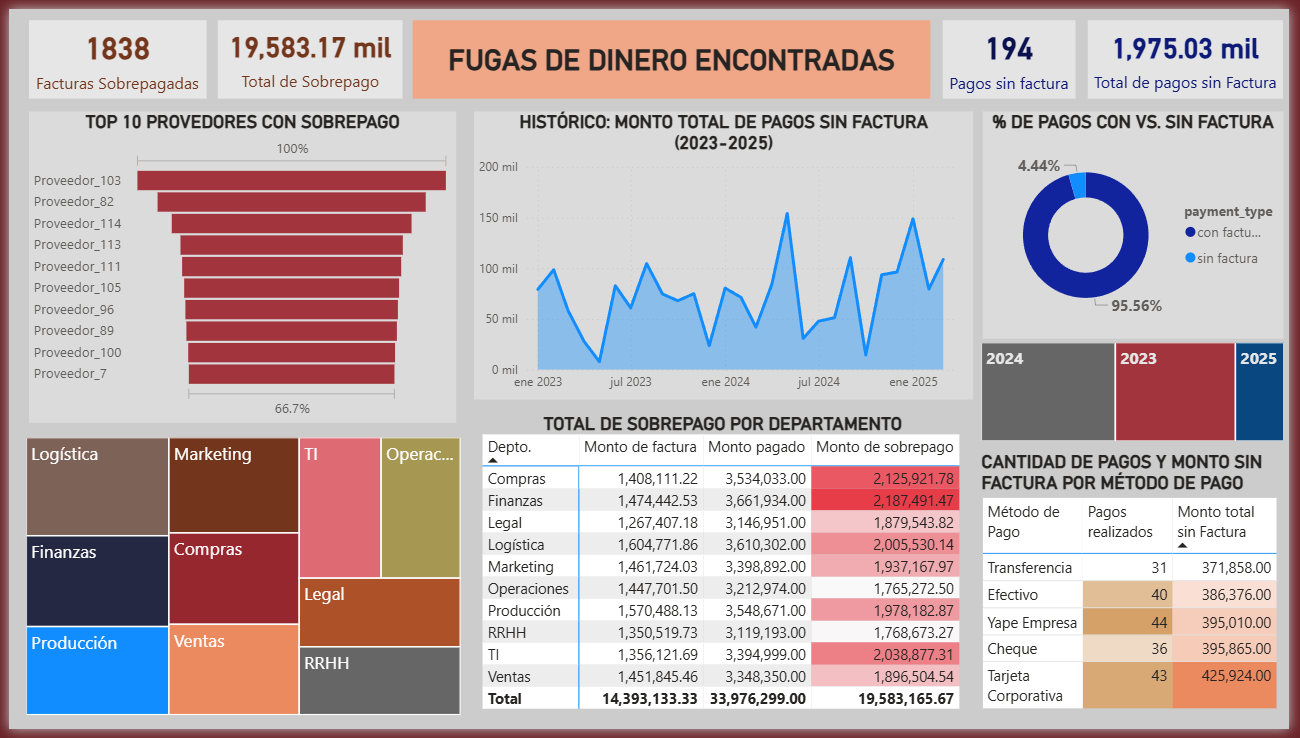

What the dashboard file says about the page in this screenshot:
{"tool":"powerbi","page":{"name":"Página 1","canvas":[1280,720],"ordinal":0},"visuals":[{"type":"card","fields":{"Values":["Sum(overpayment_invoices.sobrepago_error)"]},"box":[208.7,10.9,184.6,78.4],"z":1000},{"type":"card","fields":{"Values":["CountNonNull(overpayment_invoices.invoice_id)"]},"box":[20.5,10.9,177.3,78.4],"z":2000},{"type":"card","fields":{"Values":["Sum(unassociated_payments.payment_amount)"]},"box":[1078.6,10.9,195.4,78.4],"z":3000},{"type":"pivotTable","title":"TOTAL  DE SOBREPAGO POR DEPARTAMENTO","fields":{"Rows":["overpayment_invoices.department_name"],"Values":["Sum(overpayment_invoices.monto_factura)","Sum(overpayment_invoices.monto_pagado)","Sum(overpayment_invoices.sobrepago_error)"]},"box":[469.3,404.2,489.8,306.4],"z":4000},{"type":"funnel","title":"TOP 10 PROVEDORES CON SOBREPAGO","fields":{"Category":["overpayment_invoices.supplier_name"],"Y":["Sum(overpayment_invoices.sobrepago_error)"]},"box":[20.5,102.5,427.1,311.3],"z":5000},{"type":"areaChart","title":"HISTÓRICO: MONTO TOTAL DE PAGOS SIN FACTURA (2023-2025)","fields":{"Category":["unassociated_payments.payment_date.Variación.Jerarquía de fechas.Año","unassociated_payments.payment_date.Variación.Jerarquía de fechas.Mes"],"Y":["Sum(unassociated_payments.payment_amount)"],"Series":["unassociated_payments.payment_type"]},"box":[464.5,102.5,499.5,288.3],"z":6000},{"type":"tableEx","title":"CANTIDAD DE PAGOS Y MONTO SIN FACTURA POR MÉTODO DE PAGO","fields":{"Values":["unassociated_payments.method_name","Count(unassociated_payments.payment_id)","Sum(unassociated_payments.payment_amount)"]},"box":[967.6,442.8,305.2,277.5],"z":7000},{"type":"treemap","fields":{"Group":["unassociated_payments.payment_date.Variación.Jerarquía de fechas.Año","unassociated_payments.payment_type"],"Values":["Count(unassociated_payments.payment_id)"]},"box":[967.6,329.4,312.5,108.6],"z":8000},{"type":"treemap","fields":{"Group":["overpayment_invoices.department_name"],"Values":["CountNonNull(overpayment_invoices.invoice_id)"]},"box":[12.1,423.5,444,287.1],"z":9000},{"type":"donutChart","title":"% DE PAGOS CON VS. SIN FACTURA","fields":{"Y":["CountNonNull(unassociated_payments.payment_id)"],"Category":["unassociated_payments.payment_type"]},"box":[973.6,102.5,300.4,226.8],"z":10000},{"type":"card","fields":{"Values":["CountNonNull(unassociated_payments.payment_id)"]},"box":[933.8,10.9,132.7,78.4],"z":11000},{"type":"textbox","box":[404.2,10.9,517.6,78.4],"z":12000}]}

Visuals, with their boxes in screenshot pixels (x1, y1, x2, y2), scaled from the page's 1280x720 canvas onto the 1300x738 screenshot:
card - Sum(overpayment_invoices.sobrepago_error): (x1=212, y1=11, x2=399, y2=92)
card - CountNonNull(overpayment_invoices.invoice_id): (x1=21, y1=11, x2=201, y2=92)
card - Sum(unassociated_payments.payment_amount): (x1=1095, y1=11, x2=1294, y2=92)
"TOTAL  DE SOBREPAGO POR DEPARTAMENTO" pivotTable: (x1=477, y1=414, x2=974, y2=728)
"TOP 10 PROVEDORES CON SOBREPAGO" funnel: (x1=21, y1=105, x2=455, y2=424)
"HISTÓRICO: MONTO TOTAL DE PAGOS SIN FACTURA (2023-2025)" areaChart: (x1=472, y1=105, x2=979, y2=401)
"CANTIDAD DE PAGOS Y MONTO SIN FACTURA POR MÉTODO DE PAGO" tableEx: (x1=983, y1=454, x2=1293, y2=737)
treemap - unassociated_payments.payment_date.Variación.Jerarquía de fechas.Año x unassociated_payments.payment_type: (x1=983, y1=338, x2=1299, y2=449)
treemap - overpayment_invoices.department_name x CountNonNull(overpayment_invoices.invoice_id): (x1=12, y1=434, x2=463, y2=728)
"% DE PAGOS CON VS. SIN FACTURA" donutChart: (x1=989, y1=105, x2=1294, y2=338)
card - CountNonNull(unassociated_payments.payment_id): (x1=948, y1=11, x2=1083, y2=92)
textbox: (x1=411, y1=11, x2=936, y2=92)
